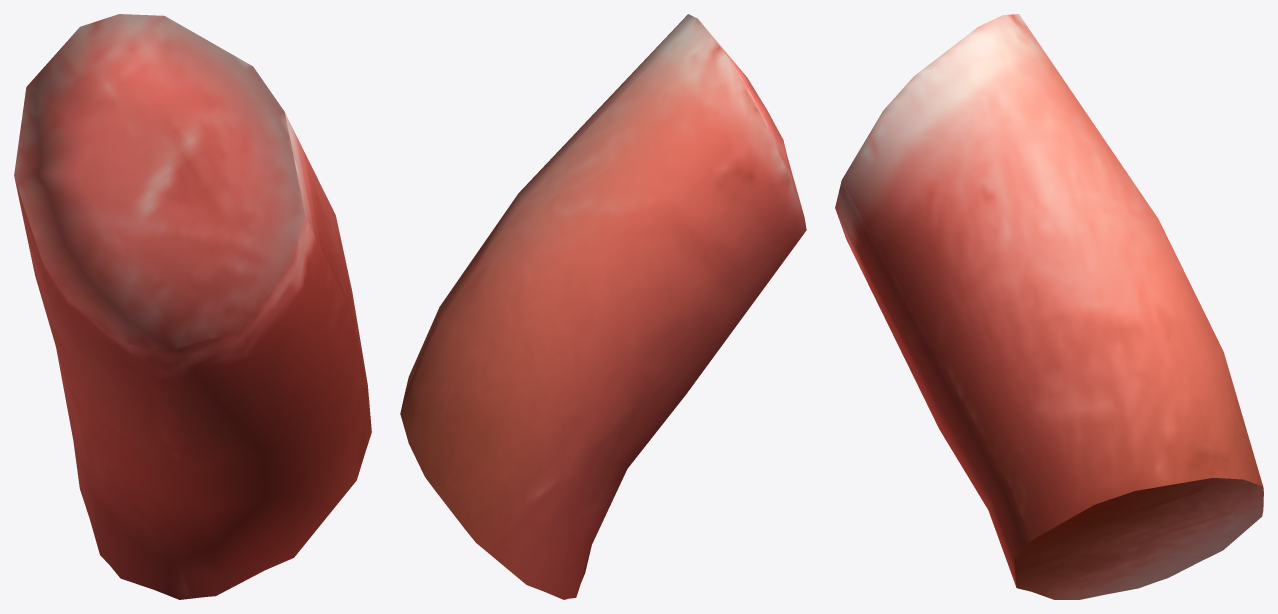
The model's file is SM_HeartPiece_6_.FBX.
The picture shows the model from 3 angles, left to right: view 1: azimuth 30°, elevation 25°; view 2: azimuth 150°, elevation 25°; view 3: azimuth 270°, elevation 25°; orthographic projection. The views are drawn at different scales.
Visible parts, largest first — view 1: SM_HeartPiece_6_; view 2: SM_HeartPiece_6_; view 3: SM_HeartPiece_6_.
Part boxes in pixels (x1,y1,x2,y2): SM_HeartPiece_6_: (14,14,371,599); SM_HeartPiece_6_: (400,14,806,599); SM_HeartPiece_6_: (835,14,1263,599).
Size of the model in its own units: 136 by 154 by 214.
